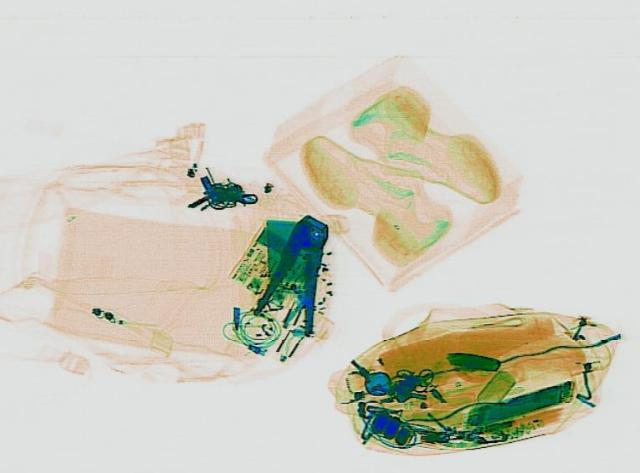Pliers: (245, 210, 351, 335)
